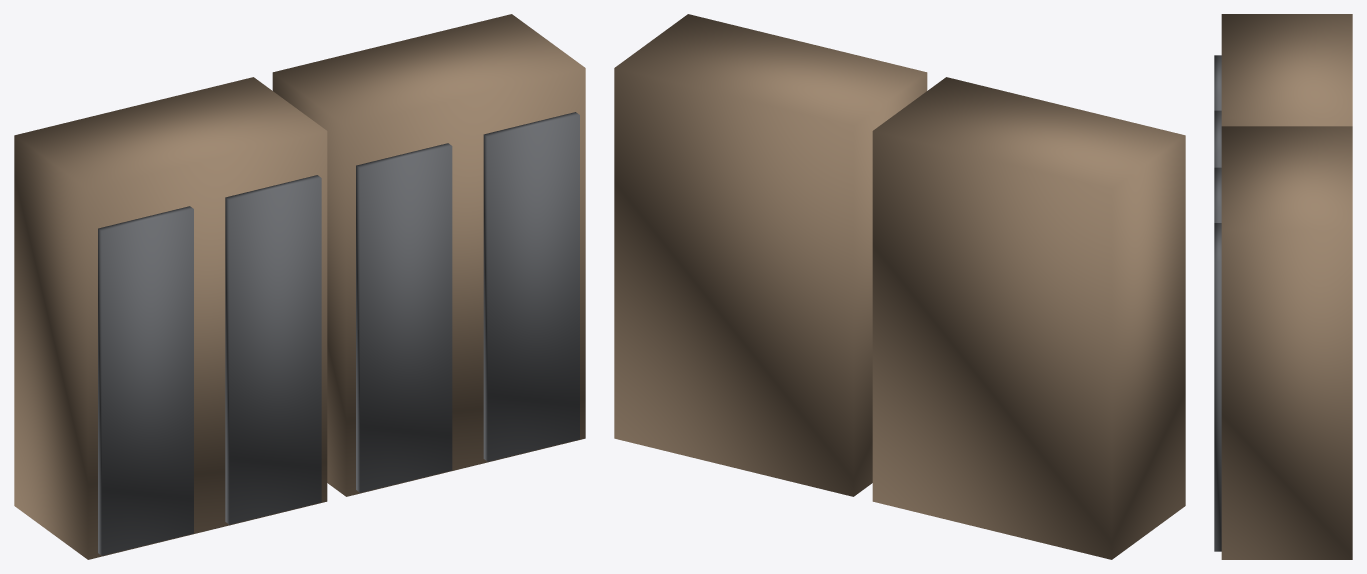
The model's file is confessional_booth__cluster.glb.
The picture shows the model from 3 angles, left to right: view 1: azimuth 30°, elevation 25°; view 2: azimuth 150°, elevation 25°; view 3: azimuth 270°, elevation 25°; orthographic projection. The views are drawn at different scales.
Parts seen in each view (by area): view 1: world; view 2: world; view 3: world.
Boxes of the visible parts, x1,y1,x2,y2 form: world: (14, 14, 585, 559); world: (614, 14, 1185, 559); world: (1214, 14, 1352, 559).
Bounding box in the file's own units: 2.81 × 2 × 0.76.
